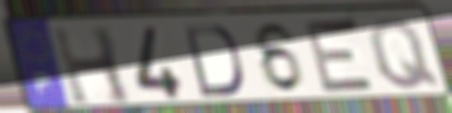4: (133, 23, 188, 102)
6: (253, 21, 306, 97)
D: (181, 23, 246, 99)
E: (301, 16, 380, 96)
H: (49, 25, 137, 108)
Q: (365, 16, 443, 92)
